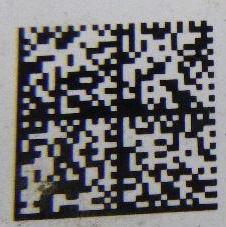datamatrix: (14, 22, 219, 221)
